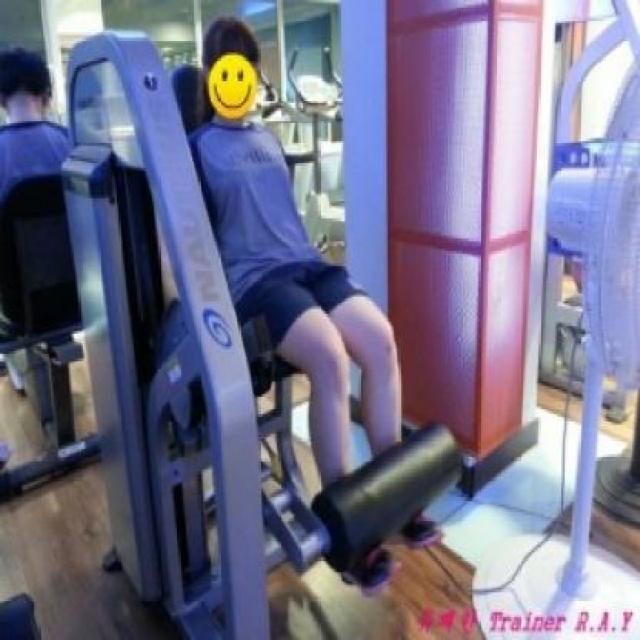leg extension: (48, 3, 482, 640)
